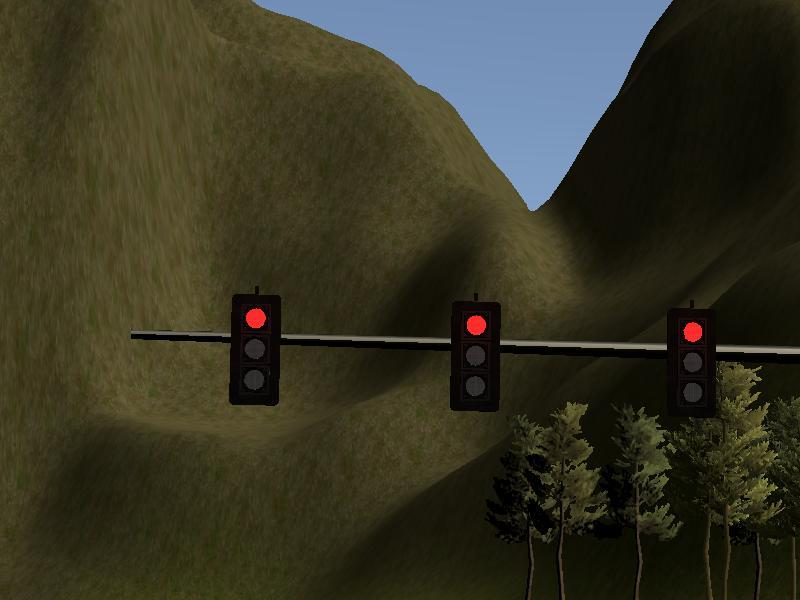Red: (452, 300, 500, 407), (232, 296, 278, 399), (673, 310, 715, 411)
